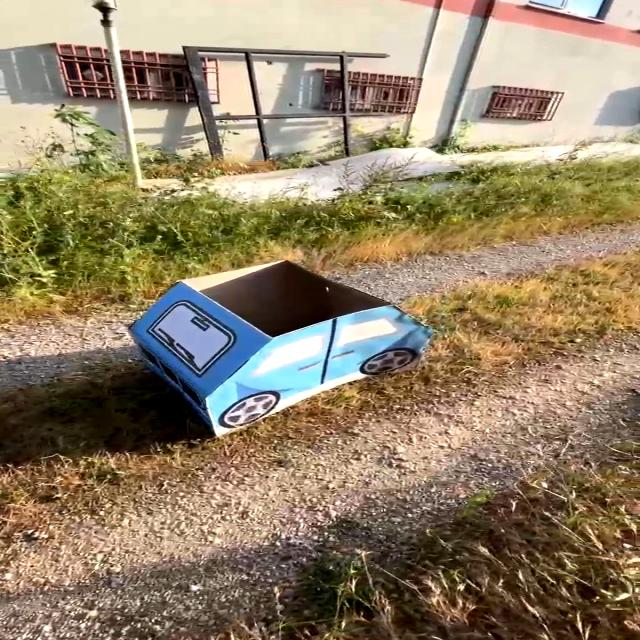blue_car: (100, 239, 457, 460)
